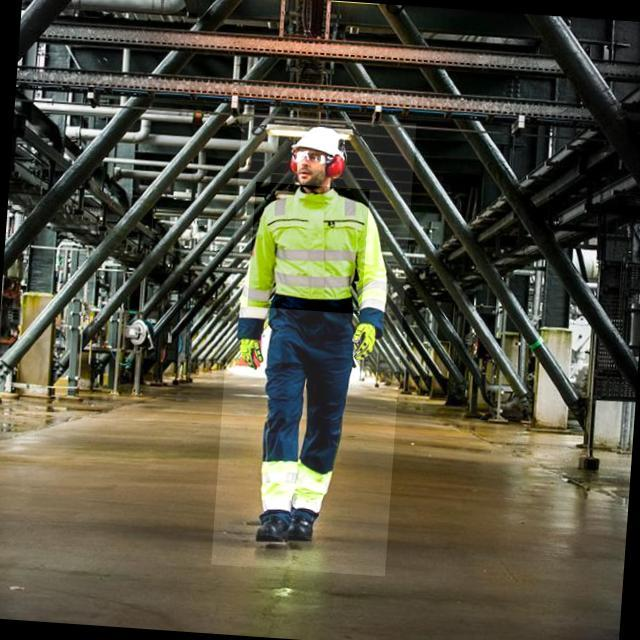Gloves: (349, 321, 379, 360), (235, 336, 265, 368)
Helmet: (294, 126, 348, 161)
Human: (211, 111, 416, 576)
Safety Boot: (286, 512, 319, 545), (256, 511, 287, 543)
Safety Vest: (247, 181, 369, 314)
